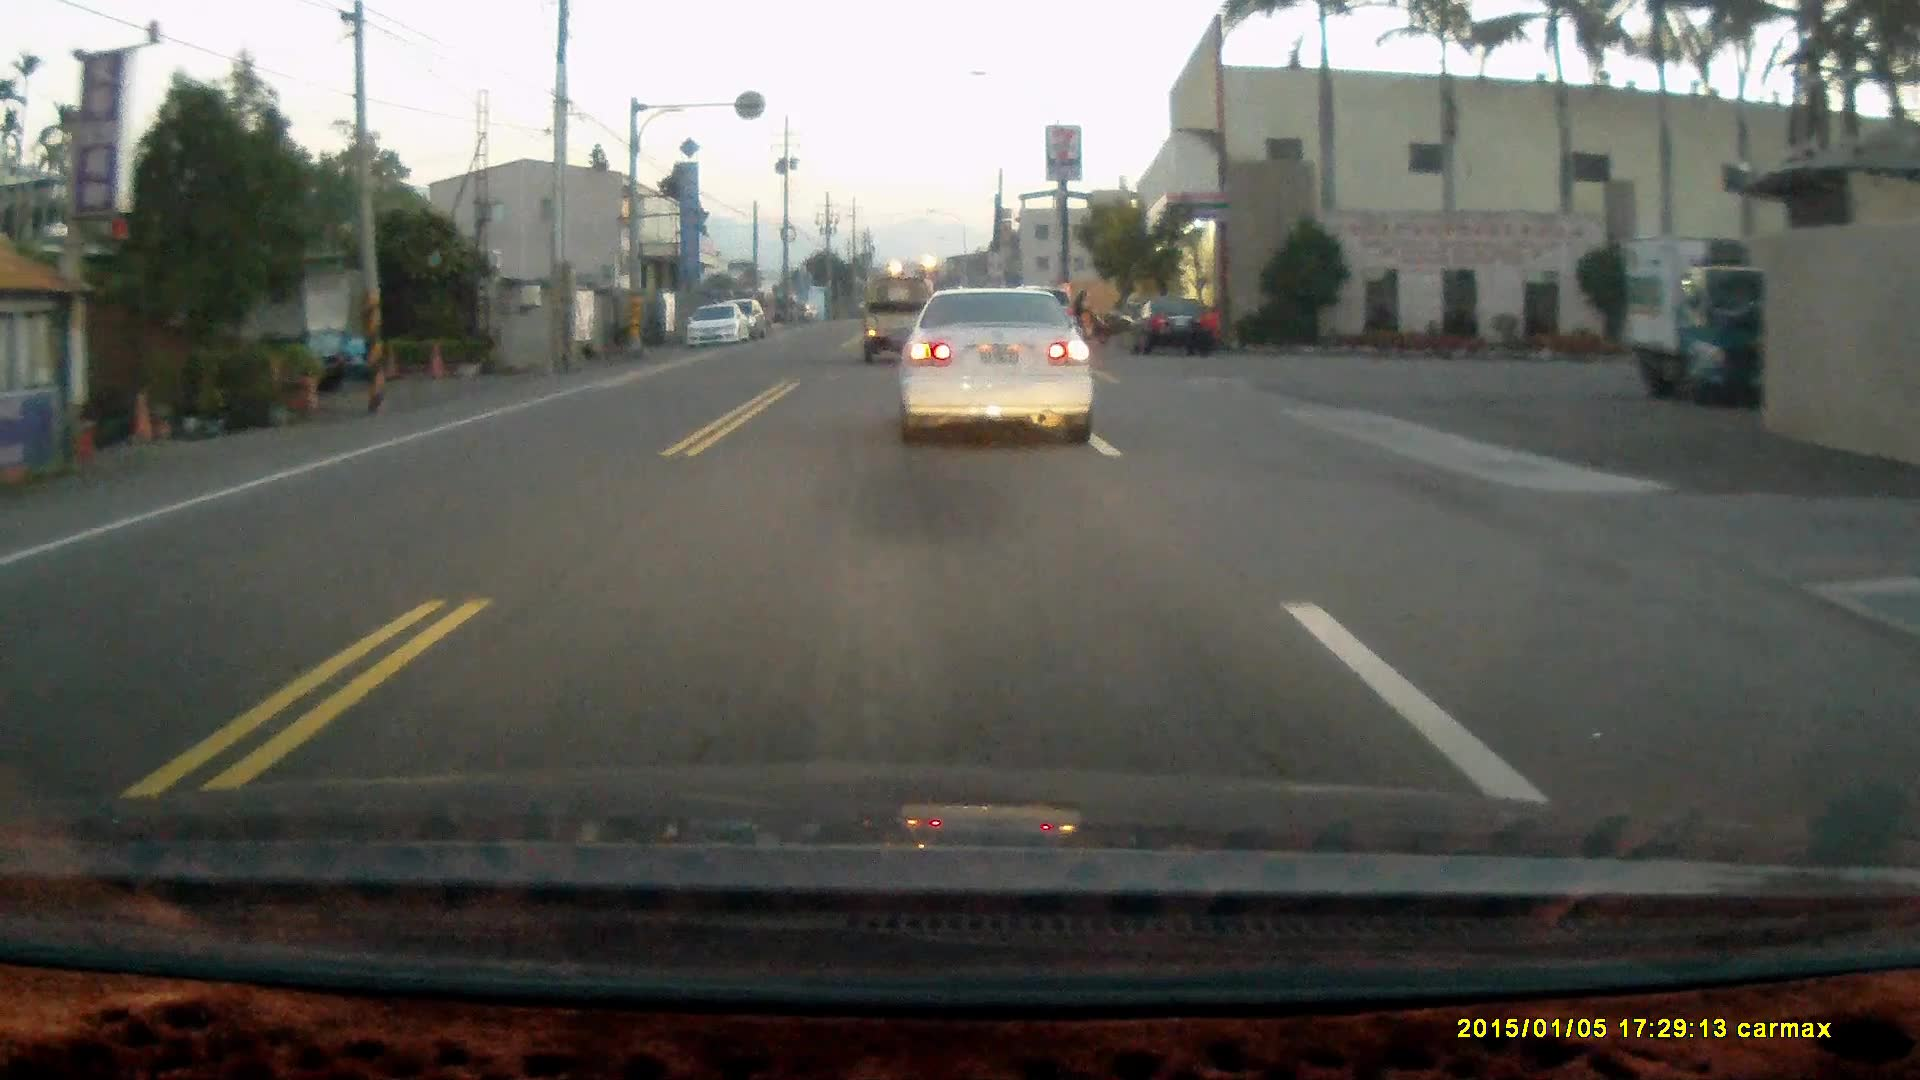rider: (1058, 287, 1109, 343)
vehicle: (899, 283, 1096, 443), (1623, 237, 1800, 407), (859, 276, 933, 363), (1122, 296, 1217, 358), (685, 302, 751, 349)
